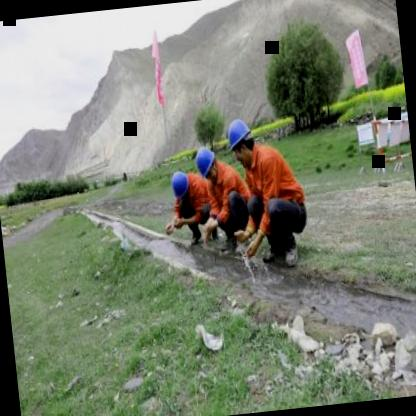helmet: (223, 116, 256, 166), (191, 142, 221, 184), (165, 167, 192, 202)
